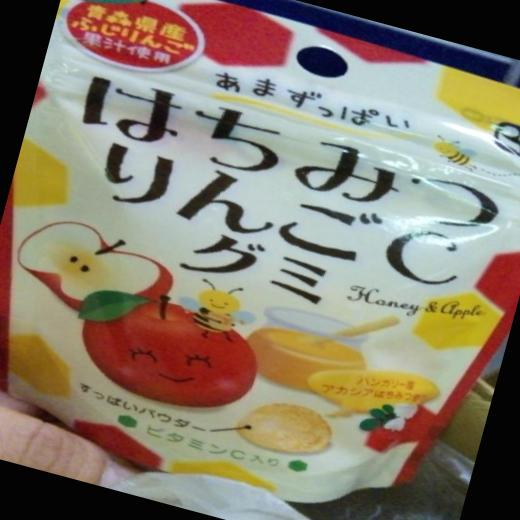Apple: (69, 290, 263, 428), (8, 207, 186, 335)
